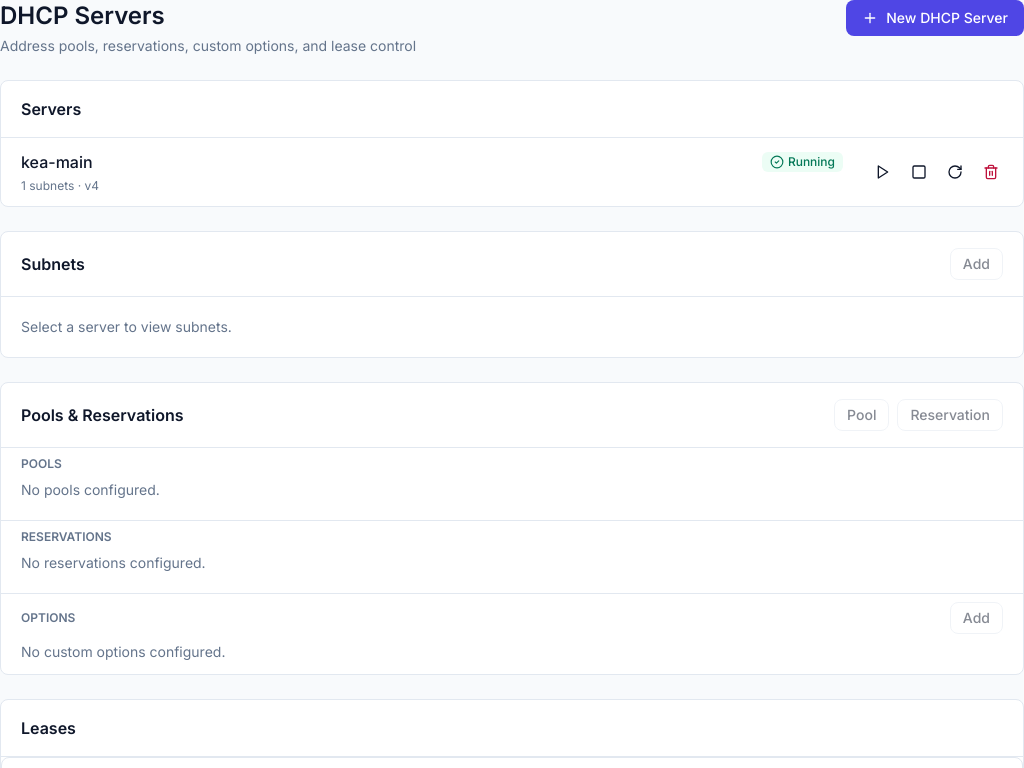
it: DHCP Management page › Reload server opens ConfirmDialog before firing
Expected: the text "kea-main" is shown, x1=21 y1=150 x2=93 y2=174
Click the button named "Reload server": (955, 172) x1=939 y1=156 x2=971 y2=188
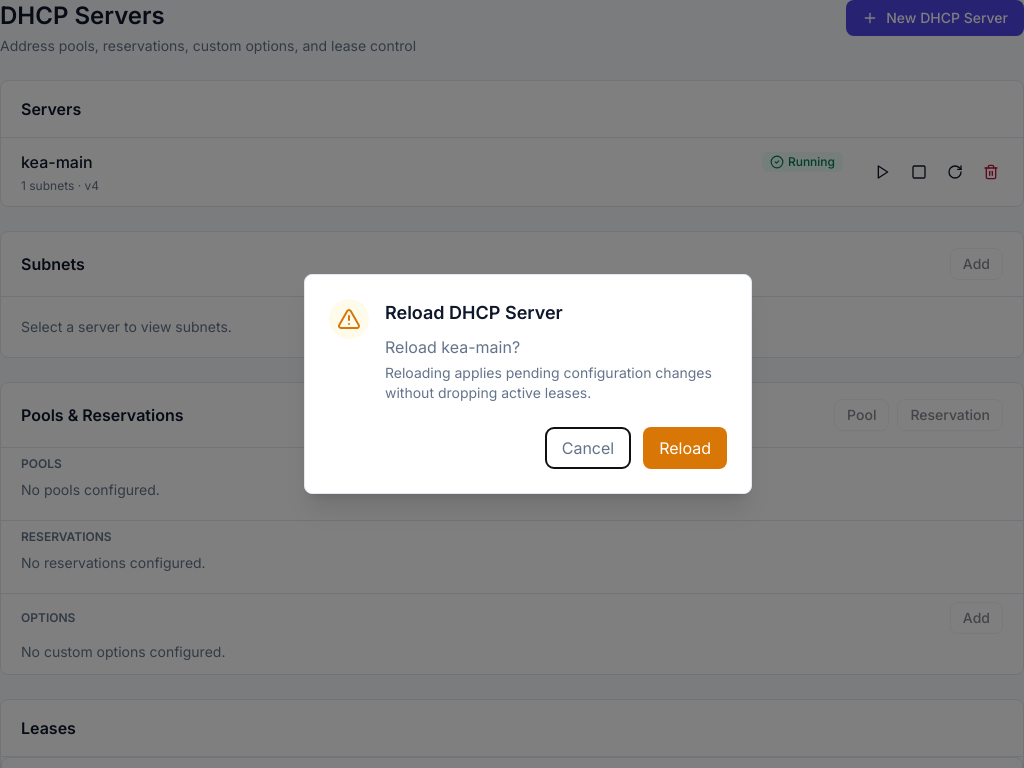
Now the dialog is shown, box x1=304 y1=274 x2=752 y2=494
